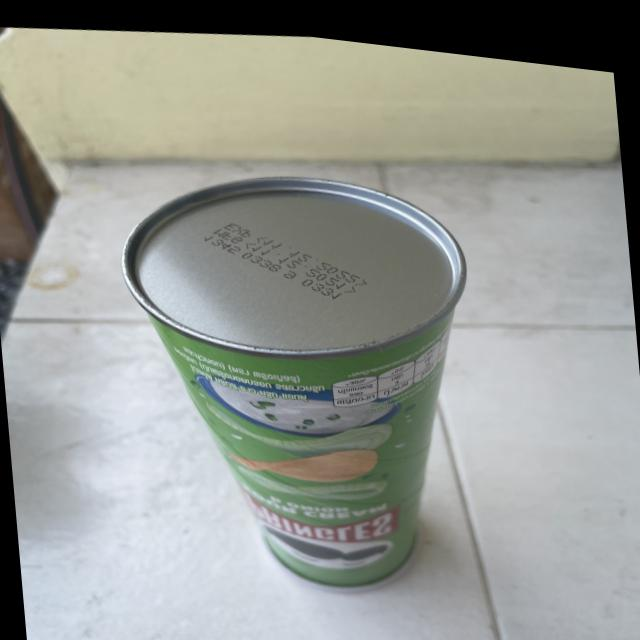a pringles: (113, 135, 496, 616)
